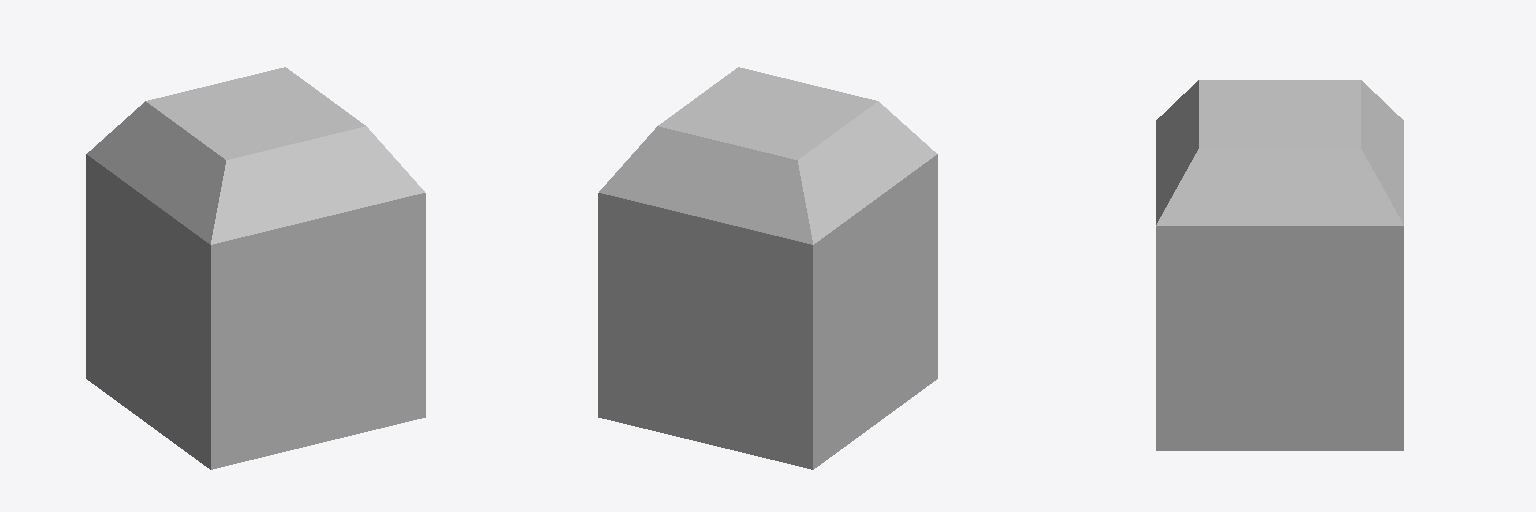
Rendered from TestCube.obj.
3 views of the same model, side by side, from view 1: azimuth 30°, elevation 25°; view 2: azimuth 150°, elevation 25°; view 3: azimuth 270°, elevation 25° (orthographic).
Visible parts, largest first — view 1: Cube; view 2: Cube; view 3: Cube.
Part boxes in pixels (x1,y1,x2,y2): Cube: (86, 67, 425, 469); Cube: (598, 67, 937, 469); Cube: (1156, 80, 1403, 450).
Size of the model in its own units: 2 by 2.53 by 2.